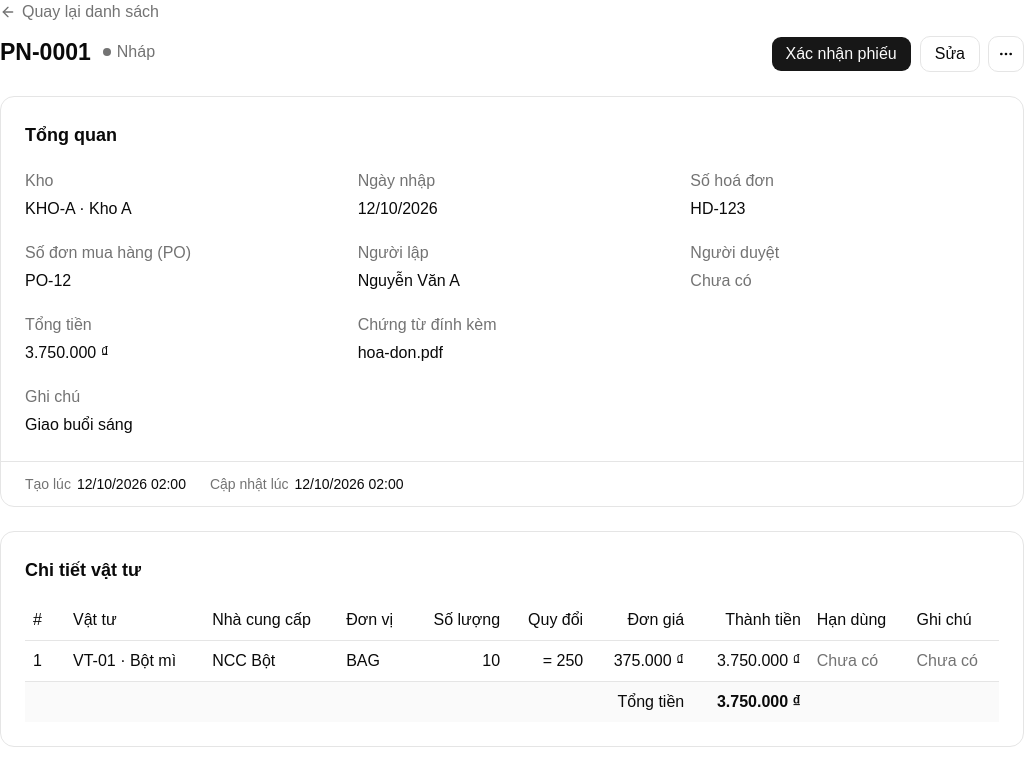
Test: ImportFormDetailPage › bấm Sửa → mở sheet sửa ngay trên trang (không điều hướng), lưu xong trang cập nhật
The width and height of the screenshot is (1024, 768).
Click the button "Sửa" at (950,54), box [920,36,980,72]
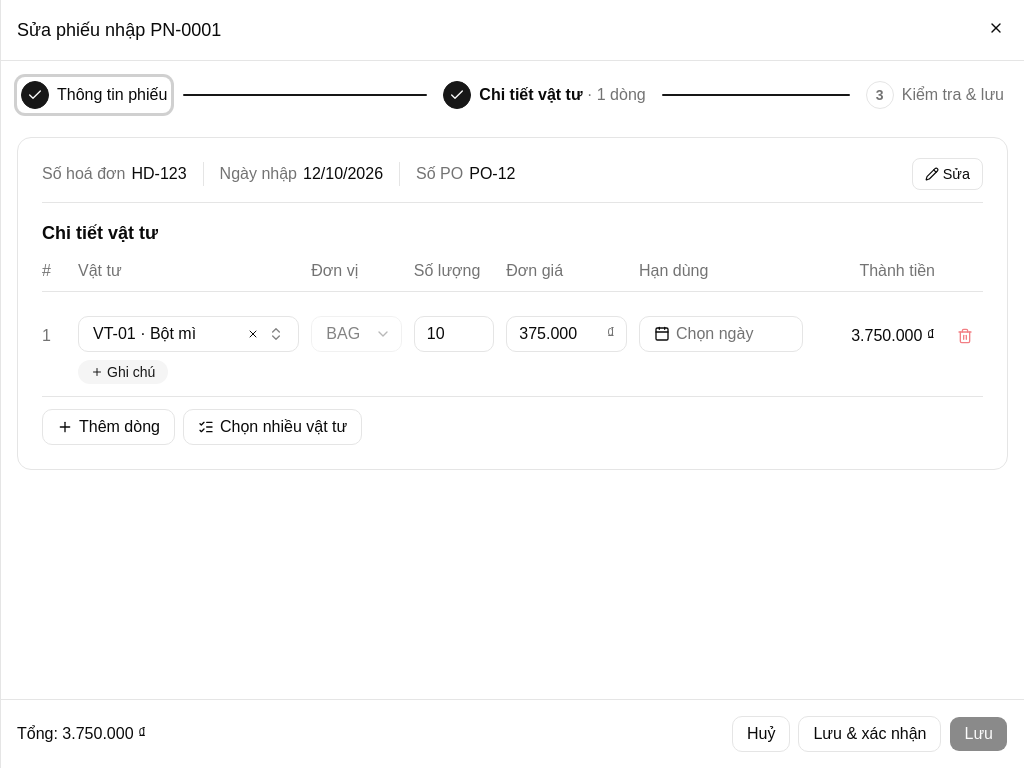
Click the button "Thông tin phiếu" at (94,95), box [17,77,171,113]
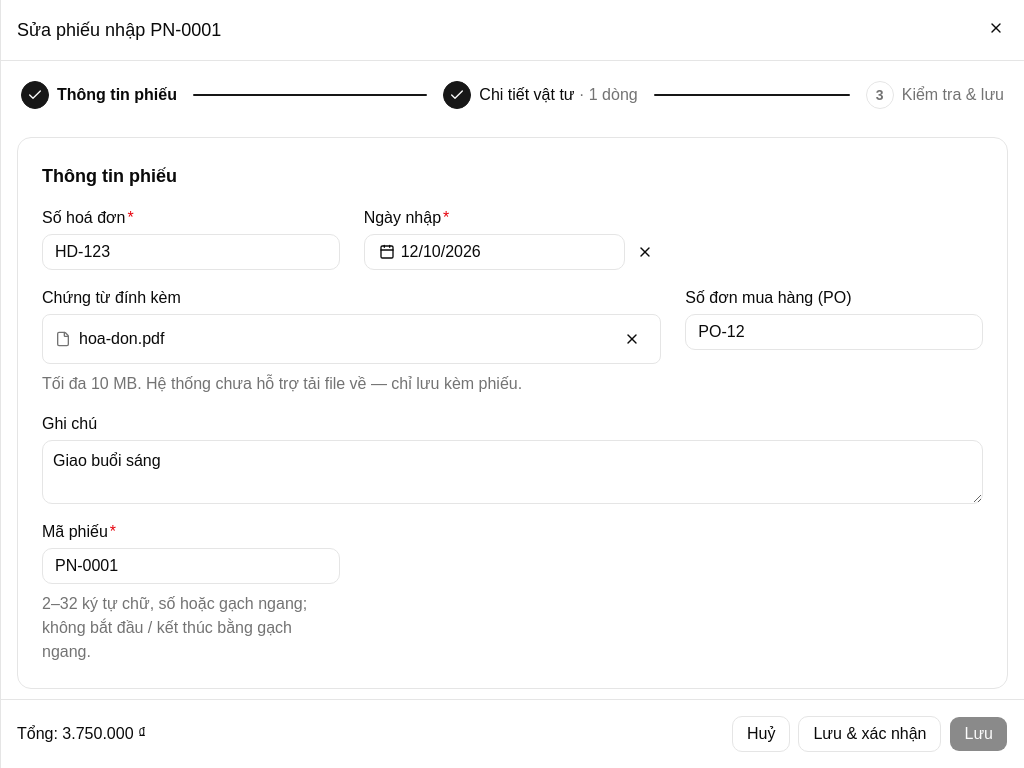
Check: the text box labelled "Ghi chú" holds "Giao buổi sáng"
Clear the text box labelled "Ghi chú" at (512,472), box [42,440,983,504]
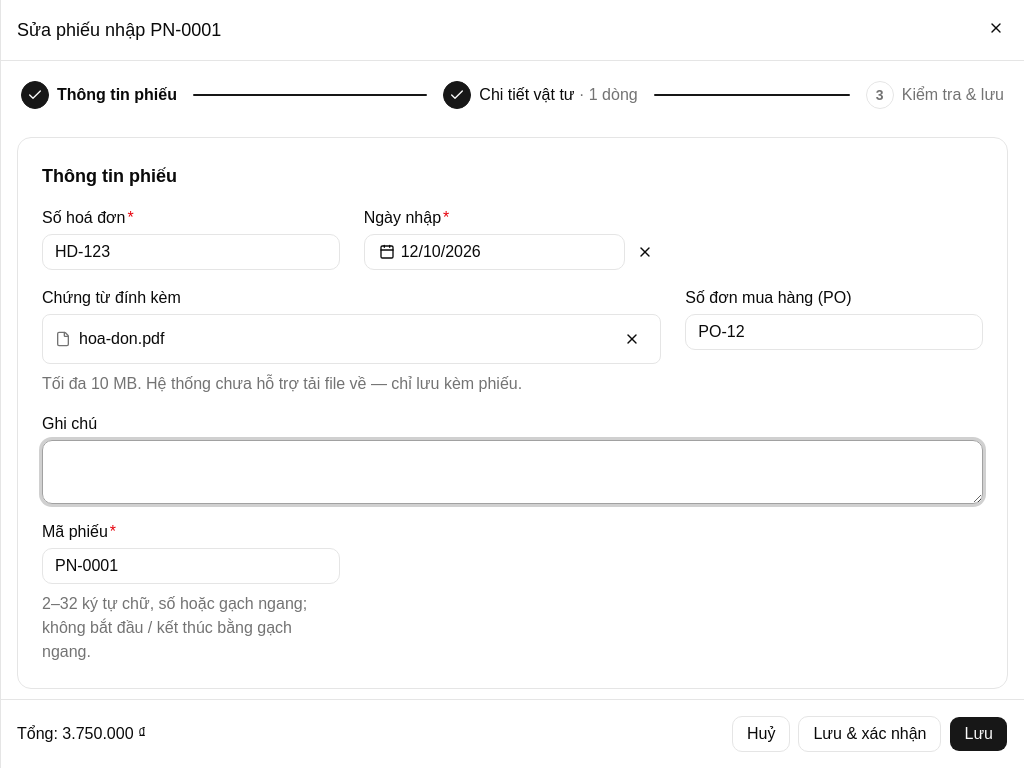
Click the button "Lưu" at (979,734), box [950,716,1008,752]
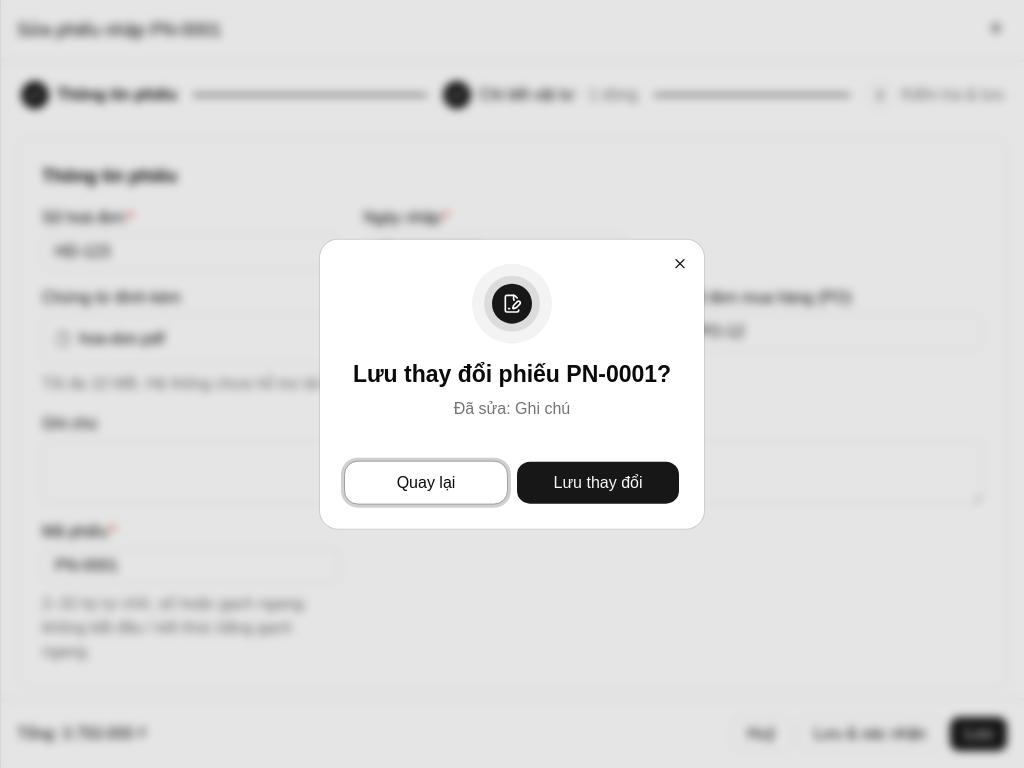
Click the button "Lưu thay đổi" at (598,482), box [516,460,680,504]
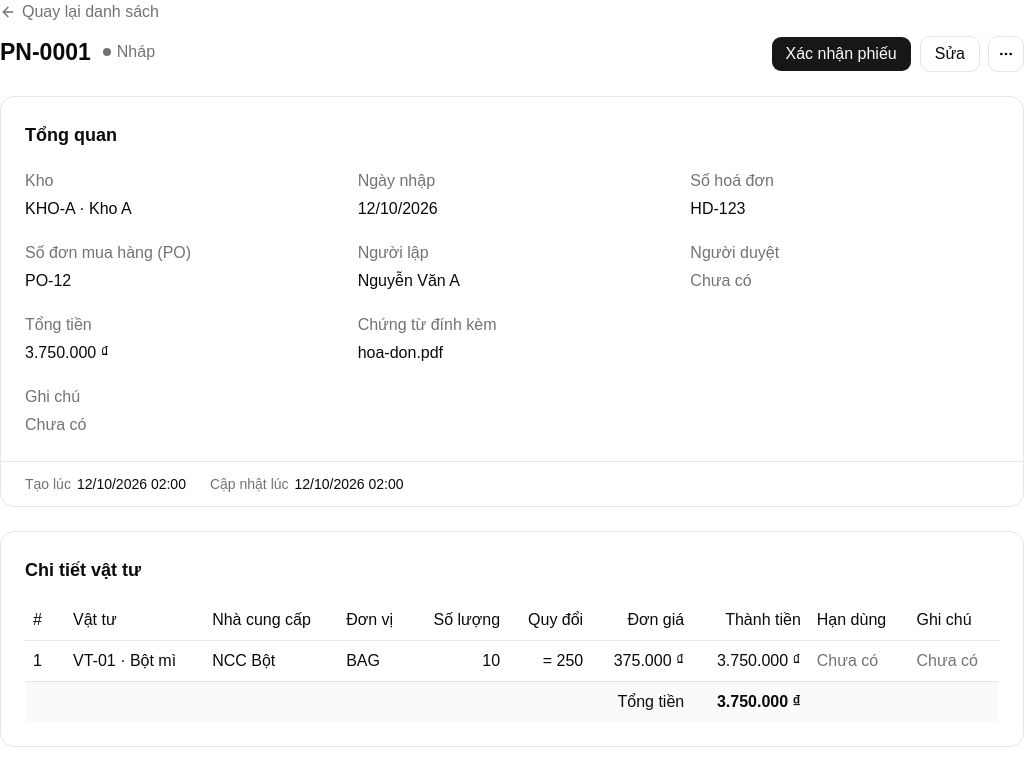
Check: the dialog is gone
Check: the text "Giao buổi sáng" is gone
